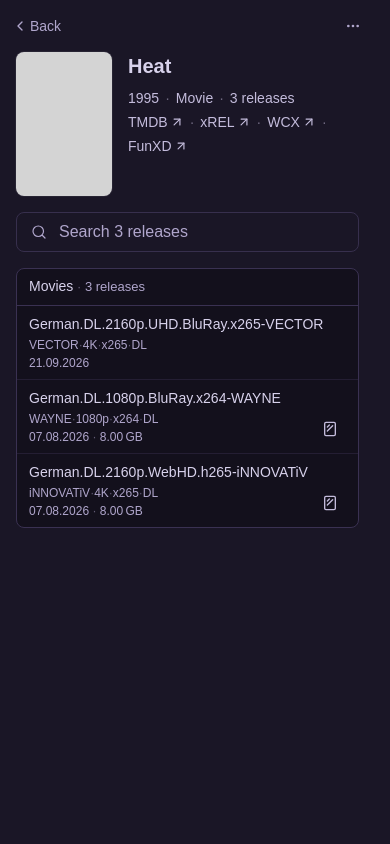
Test: TitleView › WCX › says when a Check fails, and lets it be tried again
The image size is (390, 844).
Expected: the link "German.DL.1080p.BluRay.x264-WAYNE" is shown, [29,388,281,408]
Click the button named "Check its mirrors and add the first that works: Heat.1995.Ge" at (330, 428), box [314,412,346,444]
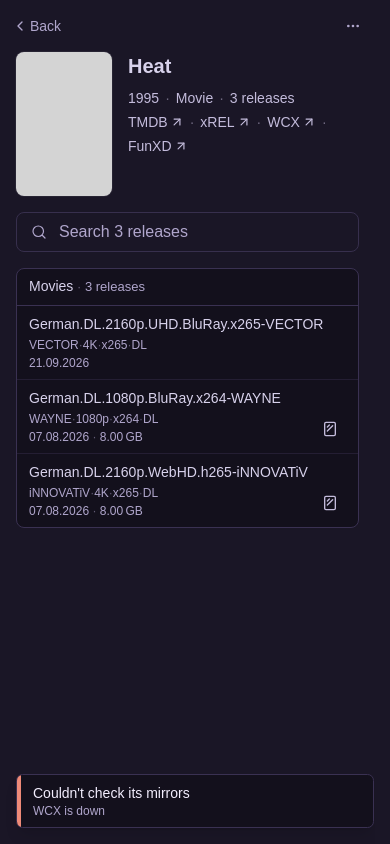
Result: the text "Couldn't check its mirrors" is shown at [33,785,190,801]
Result: the text "WCX is down" is shown at [33,804,105,818]
